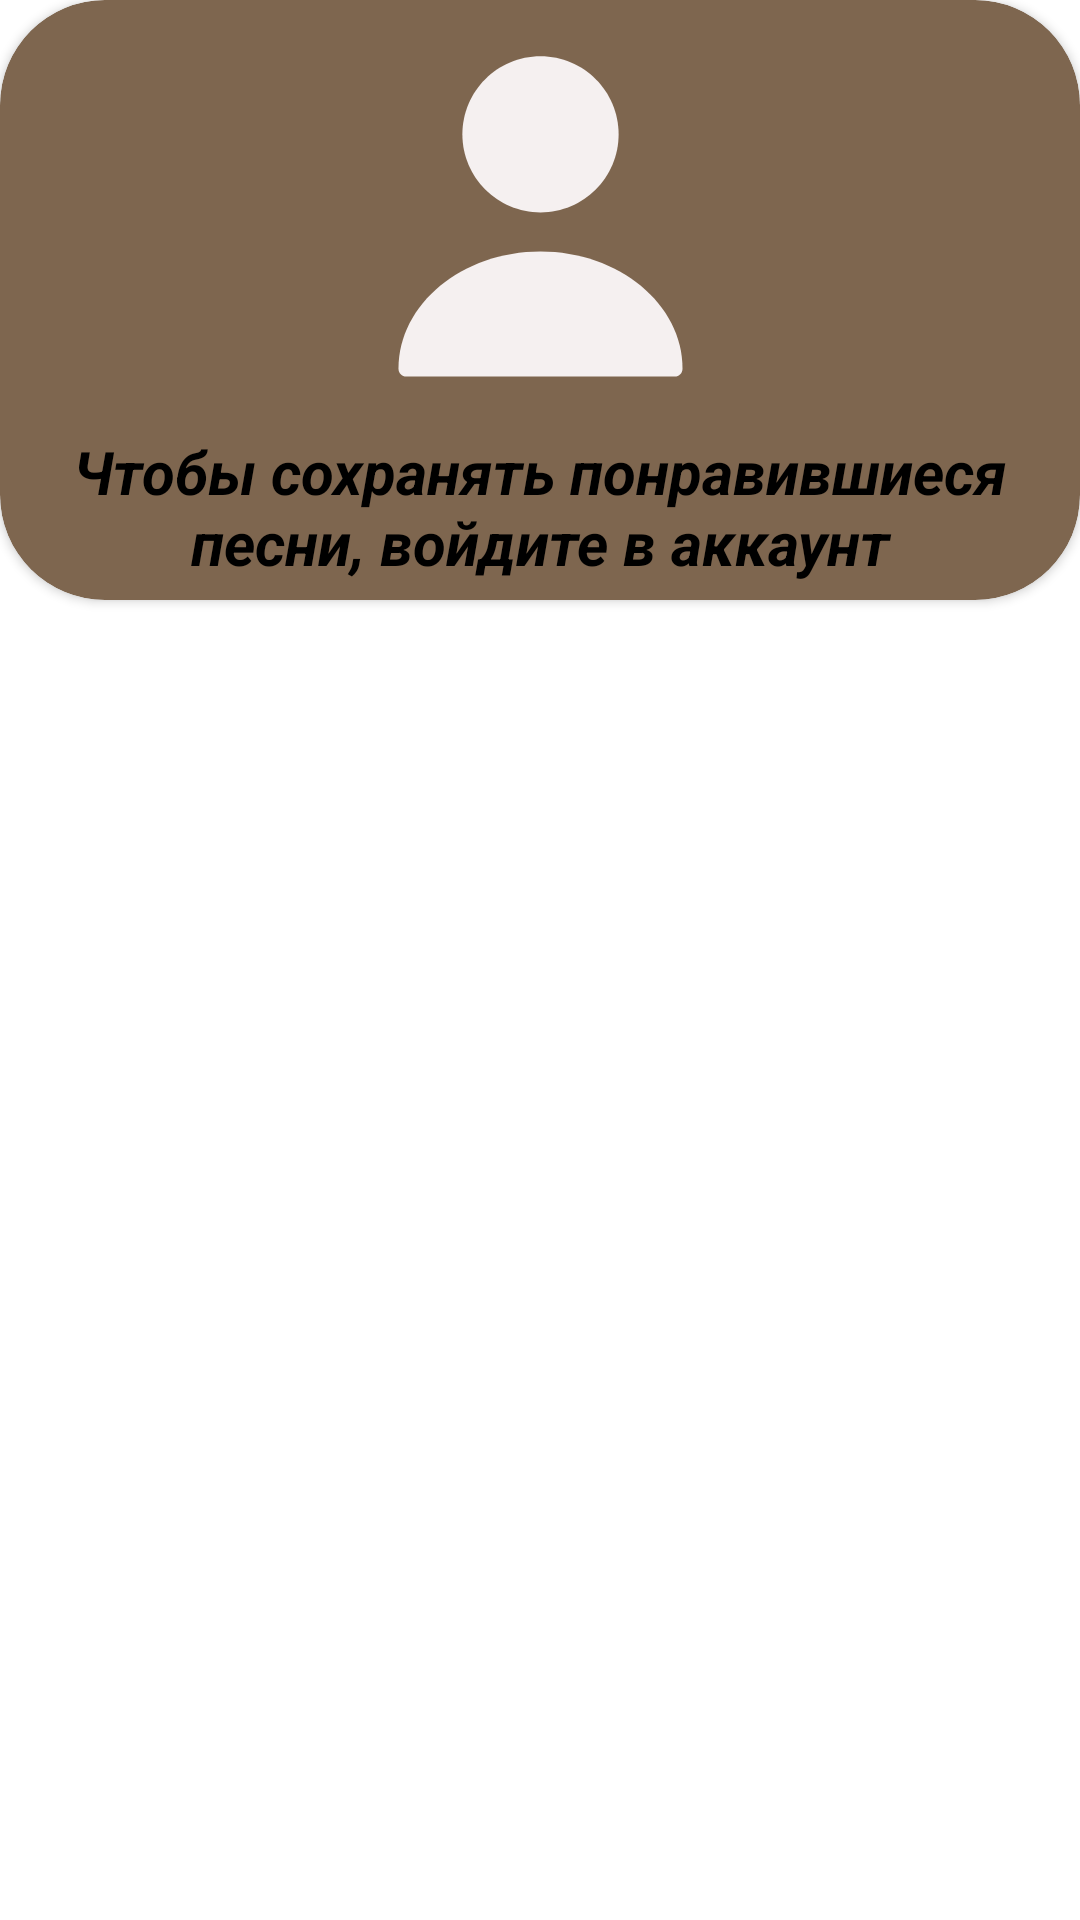

Icons on this 1080×1920 Android screen, each with the point to tap as (x,y):
user: (540,216)
